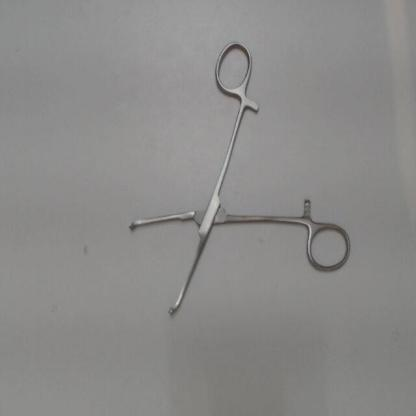Allis Tissue Forceps: (120, 34, 360, 327)
